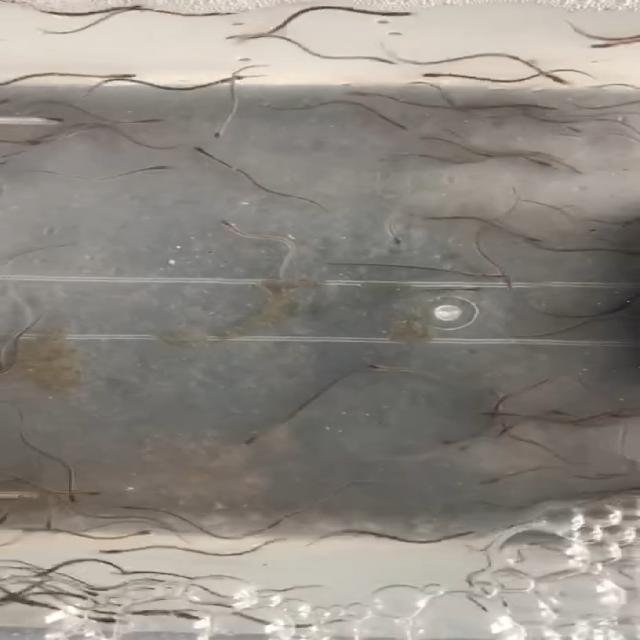active_glass_eel: (93, 1, 163, 19), (530, 230, 580, 251), (538, 69, 590, 89), (342, 78, 380, 104), (364, 6, 442, 18), (349, 359, 396, 378), (230, 436, 274, 456), (374, 231, 424, 247), (133, 162, 181, 178), (206, 29, 259, 43), (105, 70, 161, 82), (528, 102, 576, 115), (577, 37, 613, 53), (132, 114, 164, 132), (93, 616, 134, 630), (521, 156, 553, 172), (179, 140, 209, 157), (466, 270, 511, 281), (544, 409, 581, 422), (210, 218, 244, 232), (26, 600, 65, 612), (379, 118, 404, 136), (214, 74, 247, 87), (418, 69, 444, 85), (567, 162, 589, 180), (129, 531, 173, 540), (117, 502, 150, 514), (207, 9, 237, 22), (604, 410, 636, 422), (61, 487, 85, 503), (30, 519, 61, 531), (22, 138, 50, 151), (80, 489, 106, 503), (462, 286, 492, 298), (176, 608, 206, 620), (452, 531, 477, 544), (485, 410, 516, 420), (490, 599, 518, 610), (458, 443, 492, 452), (34, 569, 68, 577), (79, 589, 103, 600), (212, 128, 232, 140), (96, 548, 132, 554), (431, 436, 453, 444), (476, 478, 492, 489), (0, 515, 13, 525), (50, 115, 64, 124), (624, 250, 636, 256)
